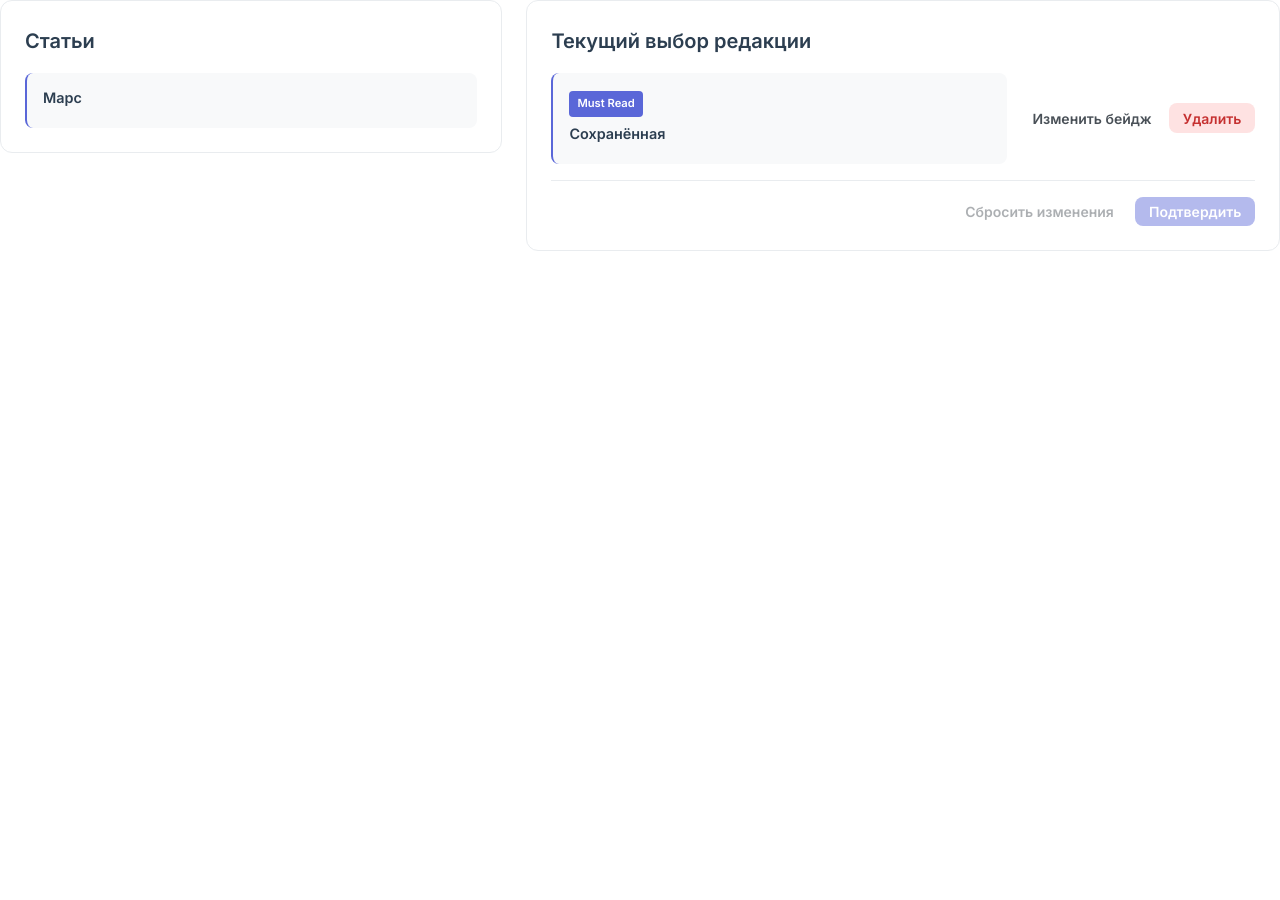
Scenario: EditorsPickEditor › adds an article, changes its badge and saves the whole list in order
Click the button "Марс": (251, 100) [25, 73, 477, 128]
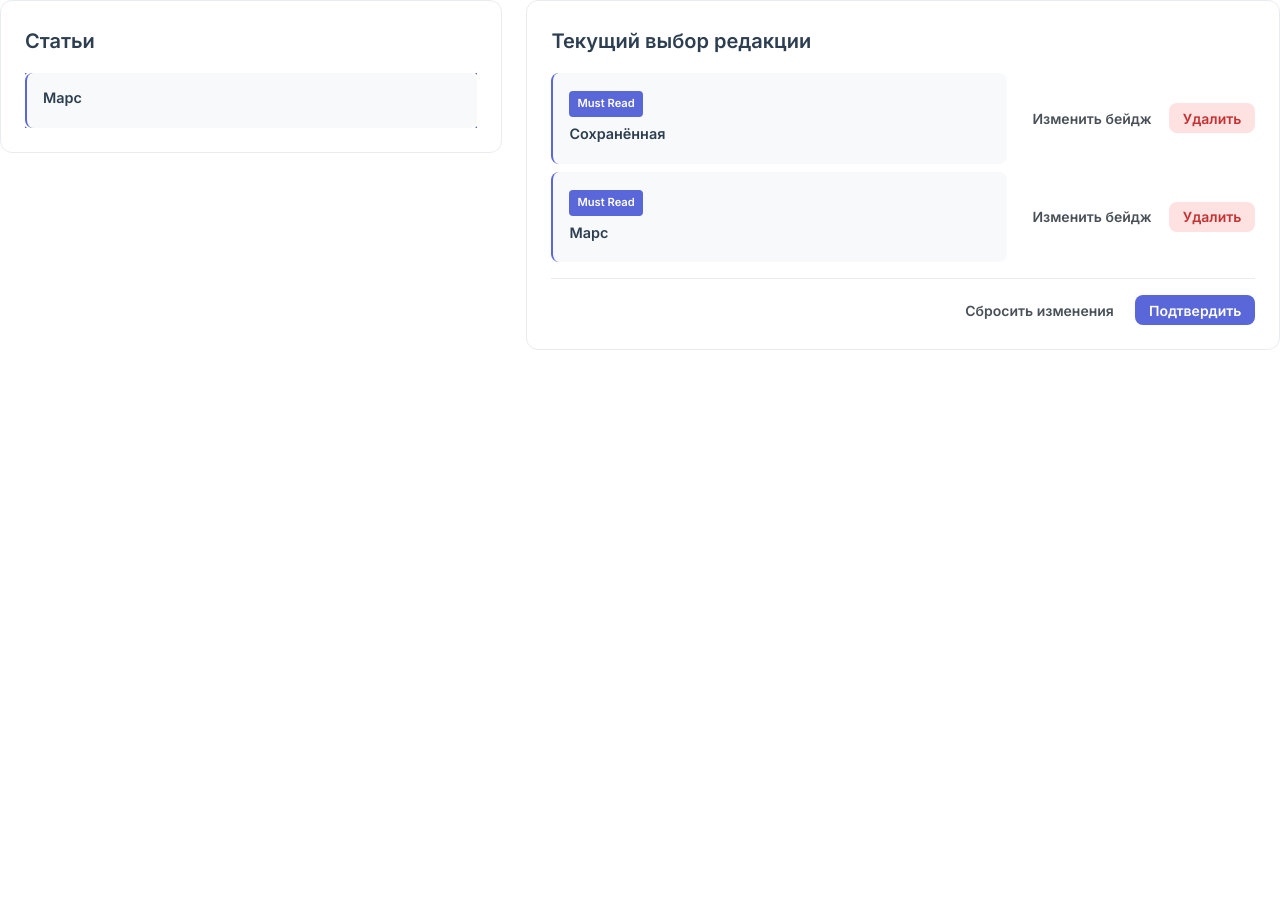
Click the 2nd button "Изменить бейдж": (1092, 217) [1019, 202, 1165, 232]
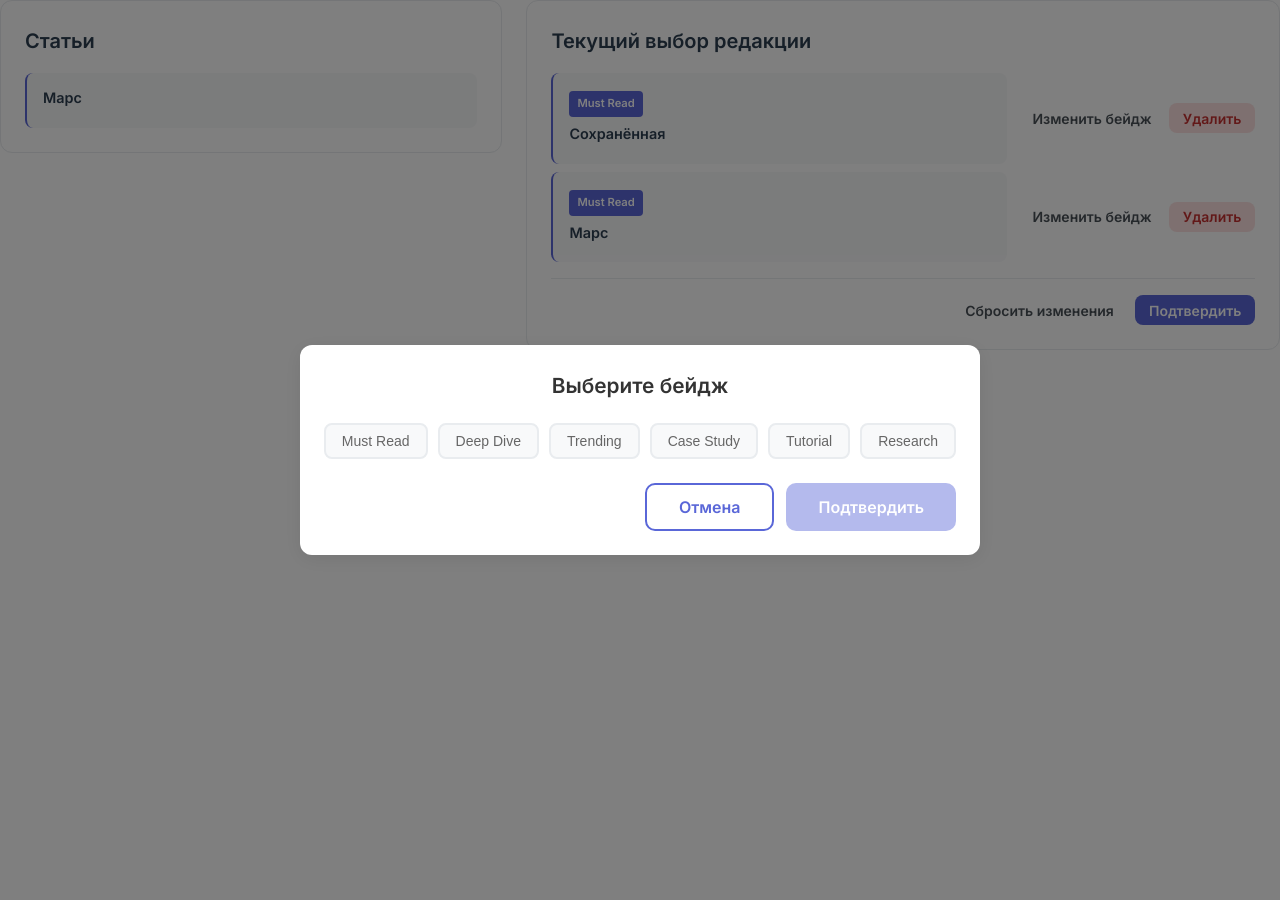
Expected: the button "Подтвердить" is disabled, [786, 483, 956, 531]
Click the button "Deep Dive": (488, 441) [438, 423, 539, 459]
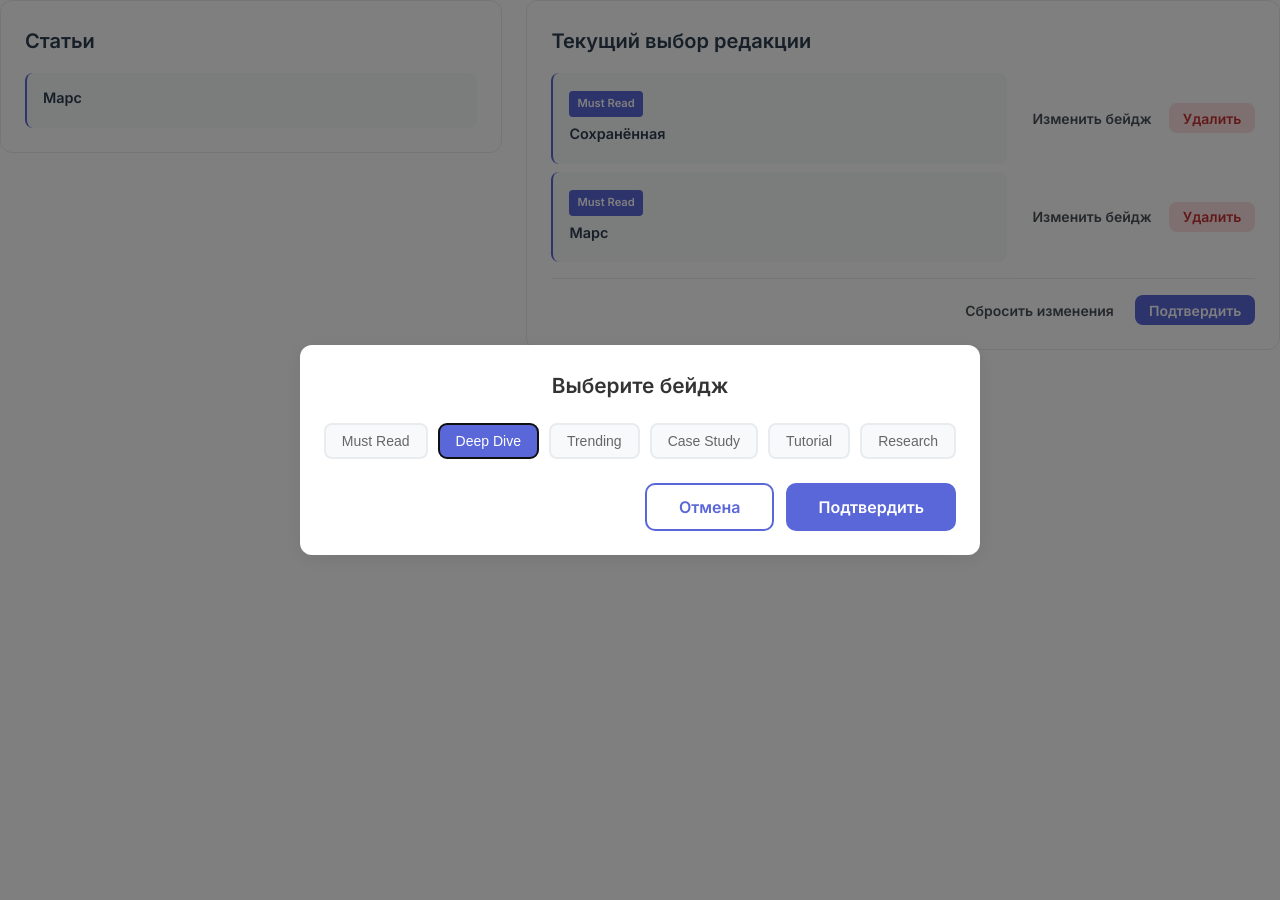
Click the button "Подтвердить": (871, 507) [786, 483, 956, 531]
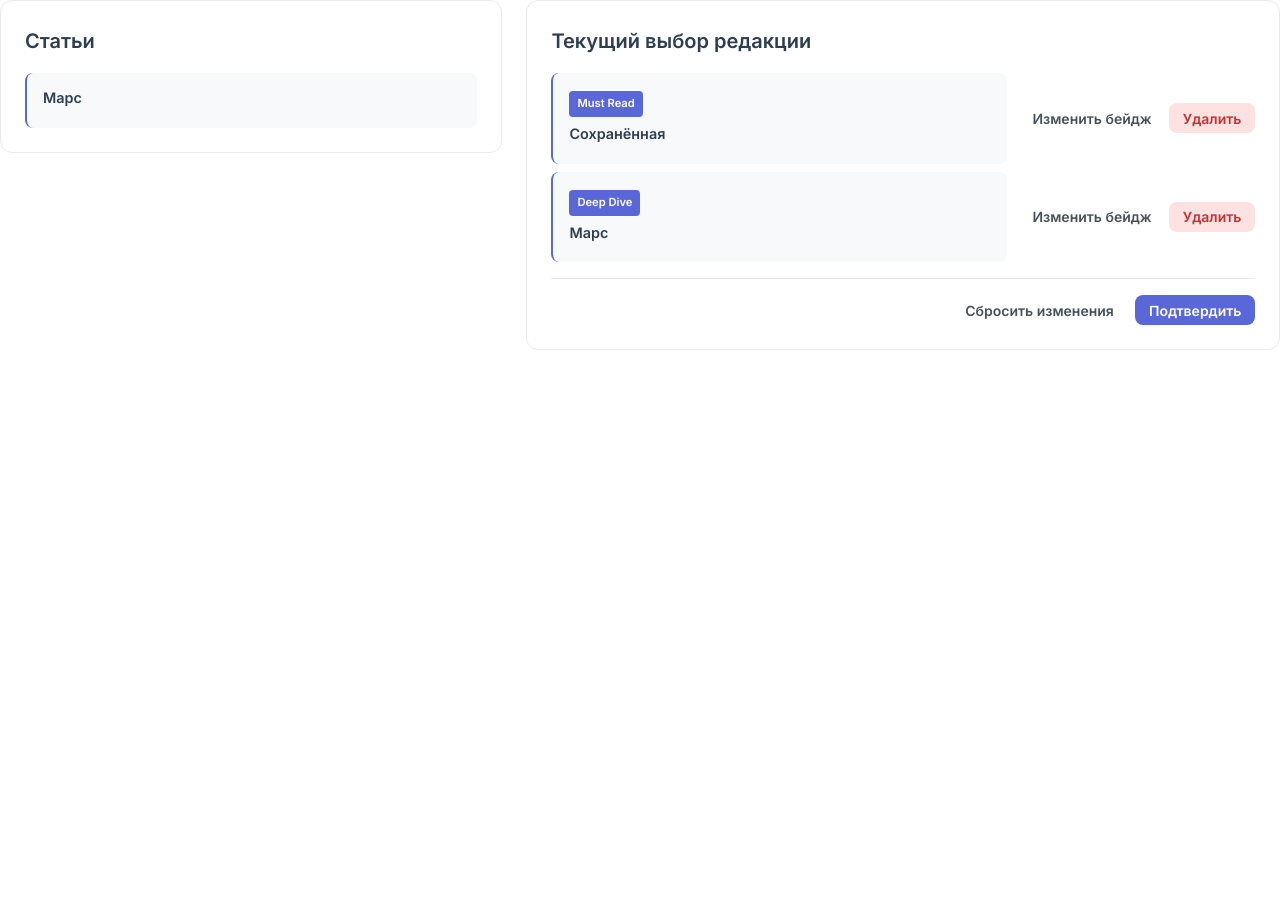
Click the button "Подтвердить": (1195, 310) [1135, 295, 1255, 325]
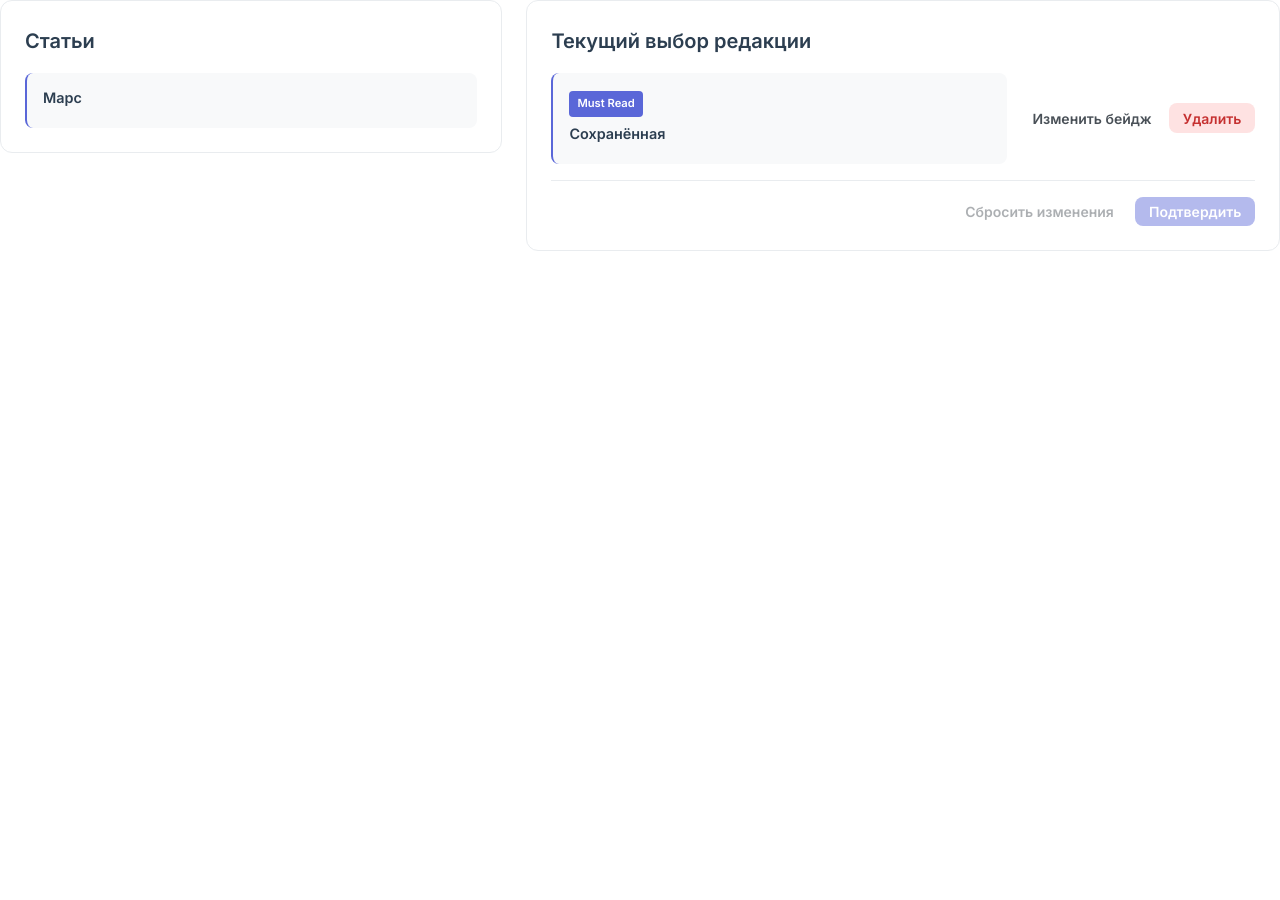
Expected: the button "Подтвердить" is disabled, [1135, 197, 1255, 226]
